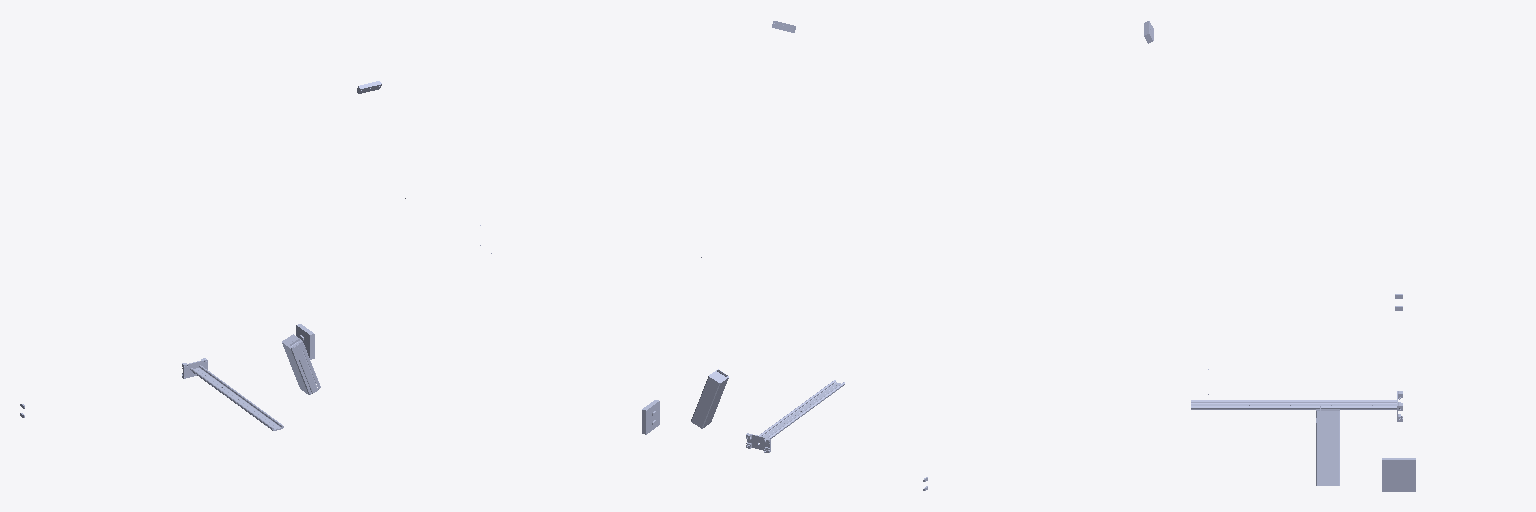
URDF robot description (robo_description):
<?xml version="1.0" encoding="utf-8"?>
<!-- 25AUG2023 Changed the minimum limit of lJoint5 to 0.247 and max to 0.686 -->
<!-- This URDF was automatically created by SolidWorks to URDF Exporter! Originally created by Stephen Brawner ([email redacted]) 
     Commit Version: 1.6.0-4-g7f85cfe  Build Version: 1.6.7995.38578
     For more information, please see http://wiki.ros.org/sw_urdf_exporter -->
<robot
  name="robo_description">
  <link
    name="base_link">
    <inertial>
      <origin
        xyz="-5.13826234849775E-17 -1.63904738952765E-17 0.339473684210526"
        rpy="0 0 0" />
      <mass
        value="19" />
      <inertia
        ixx="2.34956140350877"
        ixy="1.11311423041845E-17"
        ixz="3.69215798456927E-16"
        iyy="2.34956140350877"
        iyz="-7.44985984223617E-17"
        izz="0.151666666666667" />
    </inertial>
    <visual>
      <origin
        xyz="0 0 0"
        rpy="0 0 0" />
      <geometry>
        <mesh
          filename="package://robo_description/meshes/base_link.STL" />
      </geometry>
      <material
        name="">
        <color
          rgba="0.792156862745098 0.819607843137255 0.933333333333333 1" />
      </material>
    </visual>
    <collision>
      <origin
        xyz="0 0 0"
        rpy="0 0 0" />
      <geometry>
        <mesh
          filename="package://robo_description/meshes/base_link.STL" />
      </geometry>
    </collision>
  </link>
  <link
    name="link2">
    <inertial>
      <origin
        xyz="-0.001261 -0.2858 0.14572"
        rpy="0 0 0" />
      <mass
        value="3.13280329013611" />
      <inertia
        ixx="0.0169430024052603"
        ixy="-0.00280446630124331"
        ixz="0.0223183329111622"
        iyy="0.162057682822749"
        iyz="0.000505061238040558"
        izz="0.161640952999751" />
    </inertial>
    <visual>
      <origin
        xyz="0 0 -1"
        rpy="0 0 0" />
      <geometry>
        <mesh
          filename="package://robo_description/meshes/link2.STL" />
      </geometry>
      <material
        name="">
        <color
          rgba="0.792156862745098 0.819607843137255 0.933333333333333 1" />
      </material>
    </visual>
    <collision>
      <origin
        xyz="0 0 0"
        rpy="0 0 0" />
      <geometry>
        <mesh
          filename="package://robo_description/meshes/link2.STL" />
      </geometry>
    </collision>
  </link>
  <joint
    name="joint2"
    type="prismatic">
    <origin
      xyz="0.002535 0 1"
      rpy="0 0 0" />
    <parent
      link="base_link" />
    <child
      link="link2" />
    <axis
      xyz="0 0 1" />
    <limit
      lower="0"
      upper="1"
      effort="0"
      velocity="0" />
  </joint>
  <link
    name="virtual_l2">
    <inertial>
      <origin
        xyz="-0.001261 -0.2858 0.14572"
        rpy="0 0 0" />
      <mass
        value="3.13280329013611" />
      <inertia
        ixx="0.0169430024052603"
        ixy="-0.00280446630124331"
        ixz="0.0223183329111622"
        iyy="0.162057682822749"
        iyz="0.000505061238040558"
        izz="0.161640952999751" />
    </inertial>
    <visual>
      <origin
        xyz="0 0 -1"
        rpy="0 0 0" />
      <geometry>
        <box size="0.001 0.001 0.001"/>
      </geometry>
      <material
        name="">
        <color
          rgba="0.792156862745098 0.819607843137255 0.933333333333333 1" />
      </material>
    </visual>
    <collision>
      <origin
        xyz="0 0 0"
        rpy="0 0 0" />
      <geometry>
        <box size="0.001 0.001 0.001"/>
      </geometry>
    </collision>
  </link>
  <joint
    name="virtual_joint2"
    type="fixed">
    <origin
      xyz="0.002535 0 1"
      rpy="0 0 0" />
    <parent
      link="base_link" />
    <child
      link="virtual_l2" />
    <axis
      xyz="0 0 1" />
    <limit
      lower="0"
      upper="1"
      effort="0"
      velocity="0" />
  </joint>
  <link
    name="link4">
    <inertial>
      <origin
        xyz="-0.000438554587764983 0.0620490502692163 -0.172885898172371"
        rpy="0 0 0" />
      <mass
        value="0.162146723185788" />
      <inertia
        ixx="0.00336616371871891"
        ixy="1.46811284877534E-06"
        ixz="-3.57096843523024E-06"
        iyy="0.00312866852492012"
        iyz="0.00048231220150353"
        izz="0.000338308018448651" />
    </inertial>
    <visual>
      <origin
        xyz="-0.4665 0 -0.790"
        rpy="0 0 0" />
      <geometry>
        <mesh
          filename="package://robo_description/meshes/link4.STL" />
      </geometry>
      <material
        name="">
        <color
          rgba="0.792156862745098 0.819607843137255 0.933333333333333 1" />
      </material>
    </visual>
    <collision>
      <origin
        xyz="0 0 0"
        rpy="0 0 0" />
      <geometry>
        <mesh
          filename="package://robo_description/meshes/link4.STL" />
      </geometry>
    </collision>
  </link>
  <joint
    name="joint4"
    type="revolute">
    <origin
      xyz="0.4665 0 -0.21"
      rpy="0 0 0" />
    <parent
      link="virtual_l2" />
    <child
      link="link4" />
    <axis
      xyz="0 0 1" />
    <limit
      lower="-2.9671"
      upper="2.9671"
      effort="0"
      velocity="0" />
  </joint>
  <link
    name="link3">
    <inertial>
      <origin
        xyz="-0.0832189655707039 -0.0894795892974461 -0.00179630042130147"
        rpy="0 0 0" />
      <mass
        value="1.71811977068641" />
      <inertia
        ixx="0.00948440583507882"
        ixy="-0.00159429497921182"
        ixz="0.00308193362516688"
        iyy="0.035537875179704"
        iyz="0.000648421421055908"
        izz="0.0305779645247813" />
    </inertial>
    <visual>
      <origin
        xyz="-0.468545 -0.078 -0.43528"
        rpy="0 0 0" />
      <geometry>
        <mesh
          filename="package://robo_description/meshes/link3.STL" />
      </geometry>
      <material
        name="">
        <color
          rgba="0.792156862745098 0.819607843137255 0.933333333333333 1" />
      </material>
    </visual>
    <collision>
      <origin
        xyz="0 0 0"
        rpy="0 0 0" />
      <geometry>
        <mesh
          filename="package://robo_description/meshes/link3.STL" />
      </geometry>
    </collision>
  </link>
  <joint
    name="joint3"
    type="revolute">
    <origin
      xyz="-0.00058161 0.077824 -0.35472"
      rpy="0 0 0" />
    <parent
      link="link4" />
    <child
      link="link3" />
    <axis
      xyz="0 1 0" />
    <limit
      lower="-1.5708"
      upper="1.5708"
      effort="0"
      velocity="0" />
  </joint>
  <link
    name="yanthra_link">
    <inertial>
      <origin
        xyz="-0.0832189655707036 -0.0114795892974462 -0.00179630042130124"
        rpy="0 0 0" />
      <mass
        value="1.71811977068641" />
      <inertia
        ixx="0.00948440583507882"
        ixy="-0.00159429497921182"
        ixz="0.0030819336251669"
        iyy="0.035537875179704"
        iyz="0.000648421421055907"
        izz="0.0305779645247813" />
    </inertial>
    <visual>
      <origin
        xyz="0 0 0"
        rpy="0 0 0" />
      <geometry>
        <box size="0.001 0.001 0.001"/>
      </geometry>
      <material
        name="">
        <color
          rgba="0.792156862745098 0.819607843137255 0.933333333333333 1" />
      </material>
    </visual>
    <collision>
      <origin
        xyz="0 0 0"
        rpy="0 0 0" />
      <geometry>
        <box size="0.001 0.001 0.001"/>
      </geometry>
    </collision>
  </link>
  <joint
    name="yanthra_joint"
    type="fixed">
    <origin
      xyz="0 -0.078 0"
      rpy="0 0 0" />
    <parent
      link="link3" />
    <child
      link="yanthra_link" />
    <axis
      xyz="0 0 0" />
  </joint>
  <link
    name="link5">
    <inertial>
      <origin
        xyz="0.108132413871145 2.08242781028485E-06 0.00569147154470495"
        rpy="0 0 0" />
      <mass
        value="0.277404400359573" />
      <inertia
        ixx="0.00021628976171093"
        ixy="1.27900715148446E-06"
        ixz="-0.000135093187106687"
        iyy="0.00359200319167061"
        iyz="-8.36237914028336E-08"
        izz="0.00358633509004247" />
    </inertial>
    <visual>
      <origin
        xyz="-0.715545 0 -0.43528"
        rpy="0 0 0" />
      <geometry>
        <mesh
          filename="package://robo_description/meshes/link5.STL" />
      </geometry>
      <material
        name="">
        <color
          rgba="0.792156862745098 0.819607843137255 0.933333333333333 1" />
      </material>
    </visual>
    <collision>
      <origin
        xyz="0 0 0"
        rpy="0 0 0" />
      <geometry>
        <mesh
          filename="package://robo_description/meshes/link5.STL" />
      </geometry>
    </collision>
  </link>
  <joint
    name="joint5"
    type="prismatic">
    <origin
      xyz="0 0 0"
      rpy="0 0 0" />
    <parent
      link="yanthra_link" />
    <child
      link="link5" />
    <axis
      xyz="1 0 0" />
    <limit
      lower="0.247"
      upper="0.686"
      effort="0"
      velocity="0" />
  </joint>
  <link
    name="aruco_marker_link">
    <inertial>
      <origin
        xyz="-0.00874999999999998 0.0375 -0.00507843424240889"
        rpy="0 0 0" />
      <mass
        value="0.0438088883035136" />
      <inertia
        ixx="3.24913884800222E-05"
        ixy="1.33063310958086E-21"
        ixz="-8.470329472543E-22"
        iyy="3.99574478810853E-06"
        iyz="-3.38875204913906E-21"
        izz="3.07317223657389E-05" />
    </inertial>
    <visual>
      <origin
        xyz="0 0 0"
        rpy="0 0 0" />
      <geometry>
        <box size="0.001 0.001 0.001"/>
      </geometry>
      <material
        name="">
        <color
          rgba="0.792156862745098 0.819607843137255 0.933333333333333 1" />
      </material>
    </visual>
    <collision>
      <origin
        xyz="0 0 0"
        rpy="0 0 0" />
      <geometry>
        <box size="0.001 0.001 0.001"/>
      </geometry>
    </collision>
  </link>
  <joint
    name="aruco_joint"
    type="fixed">
    <origin
      xyz="-0.085 0 0.08"
      rpy="0 0 0" />
    <parent	
      link="link5" />
    <child
      link="aruco_marker_link" />
    <axis
      xyz="0 0 0" />
  </joint>
  <link
    name="aruco_link_1">
    <inertial>
      <origin
        xyz="-0.00874999999999998 0.0375 -0.00507843424240889"
        rpy="0 0 0" />
      <mass
        value="0.0438088883035136" />
      <inertia
        ixx="3.24913884800222E-05"
        ixy="1.33063310958086E-21"
        ixz="-8.470329472543E-22"
        iyy="3.99574478810853E-06"
        iyz="-3.38875204913906E-21"
        izz="3.07317223657389E-05" />
    </inertial>
    <visual>
      <origin
        xyz="0 0 0"
        rpy="0 0 0" />
      <geometry>
        <box size="0.001 0.001 0.001"/>
      </geometry>
      <material
        name="">
        <color
          rgba="0.792156862745098 0.819607843137255 0.933333333333333 1" />
      </material>
    </visual>
    <collision>
      <origin
        xyz="0 0 0"
        rpy="0 0 0" />
      <geometry>
        <box size="0.001 0.001 0.001"/>
      </geometry>
    </collision>
  </link>
  <joint
    name="aruco_joint_1"
    type="fixed">
    <origin
      xyz="0.0 0.04 0.04"
      rpy="0 0 0" />
    <parent	
      link="aruco_marker_link" />
    <child
      link="aruco_link_1" />
    <axis
      xyz="0 0 0" />
  </joint>
  <link
    name="aruco_link_2">
    <inertial>
      <origin
        xyz="-0.00874999999999998 0.0375 -0.00507843424240889"
        rpy="0 0 0" />
      <mass
        value="0.0438088883035136" />
      <inertia
        ixx="3.24913884800222E-05"
        ixy="1.33063310958086E-21"
        ixz="-8.470329472543E-22"
        iyy="3.99574478810853E-06"
        iyz="-3.38875204913906E-21"
        izz="3.07317223657389E-05" />
    </inertial>
    <visual>
      <origin
        xyz="0 0 0"
        rpy="0 0 0" />
      <geometry>
        <box size="0.001 0.001 0.001"/>
      </geometry>
      <material
        name="">
        <color
          rgba="0.792156862745098 0.819607843137255 0.933333333333333 1" />
      </material>
    </visual>
    <collision>
      <origin
        xyz="0 0 0"
        rpy="0 0 0" />
      <geometry>
        <box size="0.001 0.001 0.001"/>
      </geometry>
    </collision>
  </link>
  <joint
    name="aruco_joint_2"
    type="fixed">
    <origin
      xyz="0.0 -0.04 0.04"
      rpy="0 0 0" />
    <parent	
      link="aruco_marker_link" />
    <child
      link="aruco_link_2" />
    <axis
      xyz="0 0 0" />
  </joint>
  <link
    name="aruco_link_3">
    <inertial>
      <origin
        xyz="-0.00874999999999998 0.0375 -0.00507843424240889"
        rpy="0 0 0" />
      <mass
        value="0.0438088883035136" />
      <inertia
        ixx="3.24913884800222E-05"
        ixy="1.33063310958086E-21"
        ixz="-8.470329472543E-22"
        iyy="3.99574478810853E-06"
        iyz="-3.38875204913906E-21"
        izz="3.07317223657389E-05" />
    </inertial>
    <visual>
      <origin
        xyz="0 0 0"
        rpy="0 0 0" />
      <geometry>
        <box size="0.001 0.001 0.001"/>
      </geometry>
      <material
        name="">
        <color
          rgba="0.792156862745098 0.819607843137255 0.933333333333333 1" />
      </material>
    </visual>
    <collision>
      <origin
        xyz="0 0 0"
        rpy="0 0 0" />
      <geometry>
        <box size="0.001 0.001 0.001"/>
      </geometry>
    </collision>
  </link>
  <joint
    name="aruco_joint_3"
    type="fixed">
    <origin
      xyz="0.0 0.04 -0.04"
      rpy="0 0 0" />
    <parent	
      link="aruco_marker_link" />
    <child
      link="aruco_link_3" />
    <axis
      xyz="0 0 0" />
  </joint>
  <link
    name="aruco_link_4">
    <inertial>
      <origin
        xyz="-0.00874999999999998 0.0375 -0.00507843424240889"
        rpy="0 0 0" />
      <mass
        value="0.0438088883035136" />
      <inertia
        ixx="3.24913884800222E-05"
        ixy="1.33063310958086E-21"
        ixz="-8.470329472543E-22"
        iyy="3.99574478810853E-06"
        iyz="-3.38875204913906E-21"
        izz="3.07317223657389E-05" />
    </inertial>
    <visual>
      <origin
        xyz="0 0 0"
        rpy="0 0 0" />
      <geometry>
        <box size="0.001 0.001 0.001"/>
      </geometry>
      <material
        name="">
        <color
          rgba="0.792156862745098 0.819607843137255 0.933333333333333 1" />
      </material>
    </visual>
    <collision>
      <origin
        xyz="0 0 0"
        rpy="0 0 0" />
      <geometry>
        <box size="0.001 0.001 0.001"/>
      </geometry>
    </collision>
  </link>
  <joint
    name="aruco_joint_4"
    type="fixed">
    <origin
      xyz="0.0 -0.04 -0.04"
      rpy="0 0 0" />
    <parent	
      link="aruco_marker_link" />
    <child
      link="aruco_link_4" />
    <axis
      xyz="0 0 0" />
  </joint>
  <link
    name="link7">
    <inertial>
      <origin
        xyz="-0.00129487747822488 -0.0114795892973884 0.11996423535158"
        rpy="0 0 0" />
      <mass
        value="1.71811977068641" />
      <inertia
        ixx="0.0113386071435481"
        ixy="-0.00171490439294498"
        ixz="-0.00672100859249017"
        iyy="0.0355378751797041"
        iyz="-0.0001460470577602"
        izz="0.0287237632163119" />
    </inertial>
    <visual>
      <origin
        xyz="0 0 0"
        rpy="0 0 0" />
      <geometry>
        <box size="0.001 0.001 0.001"/>
      </geometry>
      <material
        name="">
        <color
          rgba="0.792156862745098 0.819607843137255 0.933333333333333 1" />
      </material>
    </visual>
    <collision>
      <origin
        xyz="0 0 0"
        rpy="0 0 0" />
      <geometry>
        <box size="0.001 0.001 0.001"/>
      </geometry>
    </collision>
  </link>
  <joint
    name="joint7"
    type="fixed">
    <origin
      xyz="0.46976 -0.069971 -0.20289"
      rpy="0 0.785398 -1.5708" />
    <parent
      link="virtual_l2"/>
    <child
      link="link7"/>
    <axis
      xyz="0 0 0" />
  </joint>
  <link
    name="camera_mount_link">
    <inertial>
      <origin
        xyz="-0.00129487747822488 -0.0114795892973883 0.11996423535158"
        rpy="0 0 0" />
      <mass
        value="1.71811977068641" />
      <inertia
        ixx="0.0113386071435481"
        ixy="-0.00171490439294498"
        ixz="-0.00672100859249018"
        iyy="0.0355378751797041"
        iyz="-0.000146047057760202"
        izz="0.0287237632163119" />
    </inertial>
    <visual>
      <origin
        xyz="0 0 0"
        rpy="0 0 0" />
      <geometry>
        <box size="0.001 0.001 0.001"/>
      </geometry>
      <material
        name="">
        <color
          rgba="0.792156862745098 0.819607843137255 0.933333333333333 1" />
      </material>
    </visual>
    <collision>
      <origin
        xyz="0 0 0"
        rpy="0 0 0" />
      <geometry>
        <box size="0.001 0.001 0.001"/>
      </geometry>
    </collision>
  </link>
  <joint
    name="camera_mount_joint"
    type="fixed">
    <origin
      xyz="0.02095 -0.0375 0"
      rpy="-1.5708 0 -1.5708" />
    <parent
      link="link7" />
    <child
      link="camera_mount_link" />
    <axis
      xyz="0 0 0" />
  </joint>
  <link
    name="virtual_cam_link">
    <inertial>
      <origin
        xyz="-0.00874999999999998 0.0375 -0.00507843424240889"
        rpy="0 0 0" />
      <mass
        value="0.0438088883035136" />
      <inertia
        ixx="3.24913884800222E-05"
        ixy="1.33063310958086E-21"
        ixz="-8.470329472543E-22"
        iyy="3.99574478810853E-06"
        iyz="-3.38875204913906E-21"
        izz="3.07317223657389E-05" />
    </inertial>
    <visual>
      <origin
        xyz="0 0 0"
        rpy="0 0 0" />
      <geometry>
        <box size="0.001 0.001 0.001"/>
      </geometry>
      <material
        name="">
        <color
          rgba="0.792156862745098 0.819607843137255 0.933333333333333 1" />
      </material>
    </visual>
    <collision>
      <origin
        xyz="0 0 0"
        rpy="0 0 0" />
      <geometry>
        <box size="0.001 0.001 0.001"/>
      </geometry>
    </collision>
  </link>
  <joint
    name="virtual_cam_link_joint"
    type="fixed">
    <origin
      xyz="0 0 0"
      rpy="0 0 0" />
    <parent	
      link="camera_mount_link" />
    <child
      link="virtual_cam_link" />
    <axis
      xyz="0 0 0" />
  </joint>

  <link
    name="camera_link">
    <inertial>
      <origin
        xyz="-0.00874999999999998 0.0375 -0.00507843424240889"
        rpy="0 0 0" />
      <mass
        value="0.0438088883035136" />
      <inertia
        ixx="3.24913884800222E-05"
        ixy="1.33063310958086E-21"
        ixz="-8.470329472543E-22"
        iyy="3.99574478810853E-06"
        iyz="-3.38875204913906E-21"
        izz="3.07317223657389E-05" />
    </inertial>
    <visual>
      <origin
        xyz="-0.03768 -0.425 -0.175"
        rpy="0 -2.04 -1.5708" />
      <geometry>
        <mesh
          filename="package://robo_description/meshes/camera_link.STL" />
      </geometry>
      <material
        name="">
        <color
          rgba="0.792156862745098 0.819607843137255 0.933333333333333 1" />
      </material>
    </visual>
    <collision>
      <origin
        xyz="0 0 0"
        rpy="0 0 0" />
      <geometry>
        <mesh
          filename="package://robo_description/meshes/camera_link.STL" />
      </geometry>
    </collision>
  </link>
  <joint
    name="camera_link_joint"
    type="fixed">
    <origin
      xyz="0 0 0"
      rpy="0 0 0" />
    <parent
      link="virtual_cam_link" />
    <child
      link="camera_link" />
    <axis
      xyz="0 0 0" />
  </joint>

  <link name="camera_depth_frame">

    <visual>

    <origin xyz="0 0 0" rpy="0 0 0" />

      <geometry>

        <box size="0.001 0.001 0.001"/>

      </geometry>

    </visual>

  </link>

  <joint name="camera_depth_frame_joint" type="fixed">

    <origin rpy="0 0 0" xyz="0 0 0"/>

    <parent link="camera_link"/>

    <child link="camera_depth_frame"/>

  </joint>

  <link name="camera_depth_optical_frame">

    <visual>

    <origin xyz="0 0 0" rpy="0 0 0" />

      <geometry>

        <box size="0.001 0.001 0.001"/>

      </geometry>

    </visual>

  </link>

  <joint name="camera_depth_optical_frame_joint" type="fixed">

   <origin rpy="0 0 0" xyz="0 0 0"/>

   <parent link="camera_depth_frame"/>

   <child link="camera_depth_optical_frame"/>

  </joint>

  <link name="camera_color_frame">

    <visual>

    <origin xyz="0 0 0" rpy="0 0 0" />

      <geometry>

        <box size="0.001 0.001 0.001"/>

      </geometry>

    </visual>

  </link>

  <joint name="camera_color_frame_joint" type="fixed">

    <origin rpy="0 0 0" xyz="0 0 0"/>

    <parent link="camera_link"/>

    <child link="camera_color_frame"/>

  </joint>

  <link name="camera_color_optical_frame">

    <visual>

    <origin xyz="0 0 0" rpy="0 0 0" />

      <geometry>

        <box size="0.001 0.001 0.001"/>

      </geometry>

    </visual>

  </link>

  <joint name="camera_color_optical_frame_joint" type="fixed">

   <origin rpy="0 0 0" xyz="0 0 0"/>

   <parent link="camera_color_frame"/>

   <child link="camera_color_optical_frame"/>

  </joint>
  <gazebo reference="stand">

    <material>Gazebo/Grey</material>

  </gazebo>

  <gazebo reference="link3">

    <material>Gazebo/Green</material>

  </gazebo>

  <gazebo reference="link4">

    <material>Gazebo/Red</material>

  </gazebo>

  <gazebo reference="link5">

    <material>Gazebo/Green</material>

  </gazebo>

  <gazebo reference="link9">

    <material>Gazebo/Red</material>

  </gazebo>

  <gazebo reference="link6">

    <material>Gazebo/White</material>

  </gazebo>

  <transmission name="tran1">

    <type>transmission_interface/SimpleTransmission</type>

    <joint name="joint3">

      <hardwareInterface>hardware_interface/PositionJointInterface</hardwareInterface>

    </joint>

    <actuator name="motor1">

      <hardwareInterface>hardware_interface/PositionJointInterface</hardwareInterface>

      <mechanicalReduction>1</mechanicalReduction>

    </actuator>

  </transmission>

  <transmission name="tran1">

    <type>transmission_interface/SimpleTransmission</type>

    <joint name="joint4">

      <hardwareInterface>hardware_interface/PositionJointInterface</hardwareInterface>

    </joint>

    <actuator name="motor1">

      <hardwareInterface>hardware_interface/PositionJointInterface</hardwareInterface>

      <mechanicalReduction>1</mechanicalReduction>

    </actuator>

  </transmission>

  <transmission name="tran1">

    <type>transmission_interface/SimpleTransmission</type>

    <joint name="joint5">

      <hardwareInterface>hardware_interface/PositionJointInterface</hardwareInterface>

    </joint>

    <actuator name="motor1">

      <hardwareInterface>hardware_interface/PositionJointInterface</hardwareInterface>

      <mechanicalReduction>1</mechanicalReduction>

    </actuator>

  </transmission>

  <gazebo>

    <plugin filename="libgazebo_ros_control.so" name="gazebo_ros_control">

      <robotNameSpace>/arm_controller</robotNameSpace>

    </plugin>

  </gazebo>

</robot>

--- Render facts (derived) ---
Views: 3 orthographic renders of the robot side by side, from view 1: azimuth 30°, elevation 25°; view 2: azimuth 150°, elevation 25°; view 3: azimuth 270°, elevation 25°.
Model robo_description with 20 links and 19 joints (2 revolute, 2 prismatic, 15 fixed), rooted at base_link, posed all joints at 0 but 1 set to mid-range because 0 is outside their limits (joint5 = 0.4665).
Visible links, largest first — view 1: link2, link5; view 2: link2, link5, base_link; view 3: link2, link5, base_link.
Link boxes in pixels (<box>): link2: <box>182,358,283,430</box>; link5: <box>282,334,320,394</box>; link2: <box>746,380,844,452</box>; link5: <box>691,369,728,428</box>; base_link: <box>642,400,927,490</box>; link2: <box>1191,391,1402,421</box>; link5: <box>1316,406,1339,485</box>; base_link: <box>1382,294,1415,491</box>.
Bounding box of the posed robot: 1.65 × 0.7952 × 1.46 m (x, y, z).
Meshes: 6 distinct files referenced, 4 mesh visuals loaded (4 binary STL); not drawn: 2 (reference not matched to a file when rendering).
